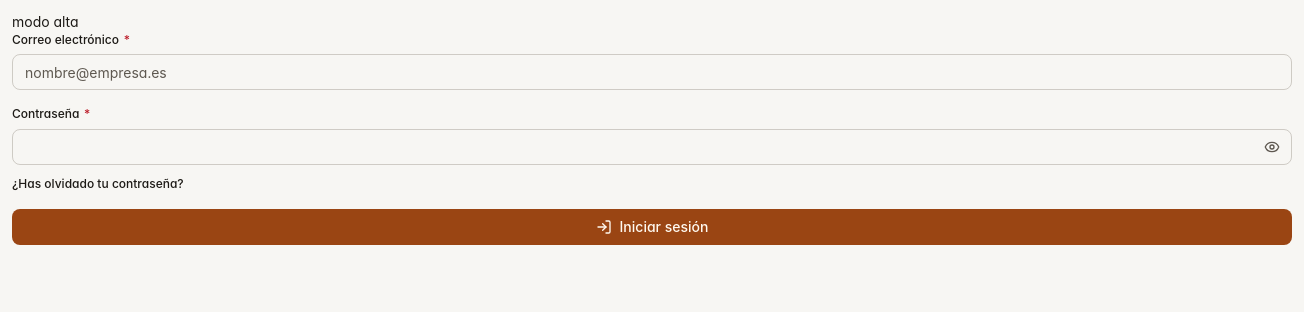
Scenario: CredentialsForm — acceso › con datos válidos manda las claves de LoginRequest y nada más
The image size is (1304, 312).
In the field with id "email": {"x": 652, "y": 72} [12, 54, 1292, 90], type "  persona@example.test "
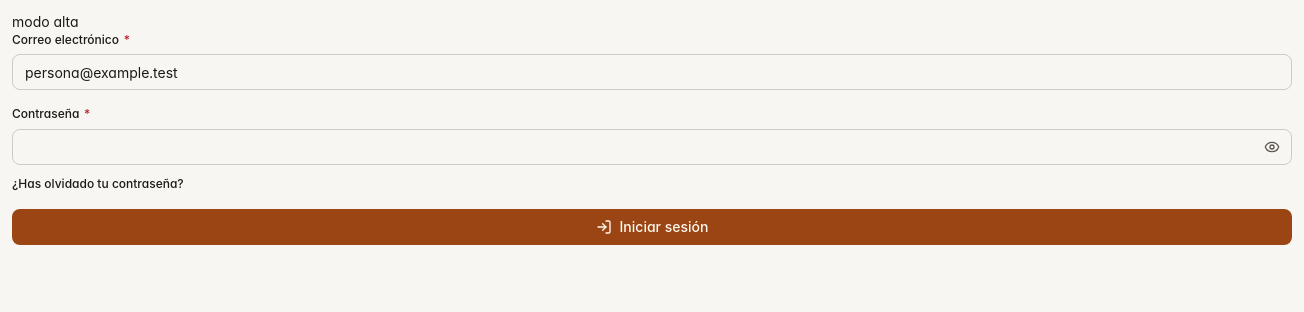
In the password field labelled "Contraseña*": {"x": 652, "y": 147} [12, 129, 1292, 165], type "secreta"
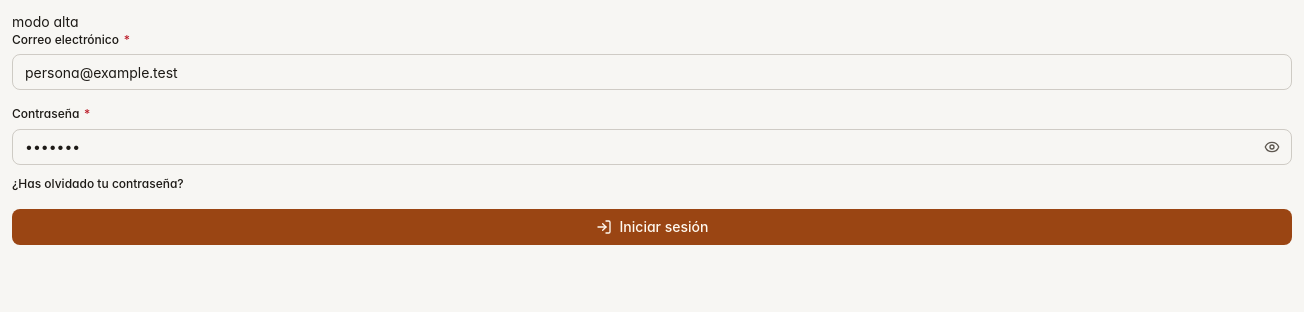
Click the button "Iniciar sesión": {"x": 652, "y": 227} [12, 209, 1292, 245]
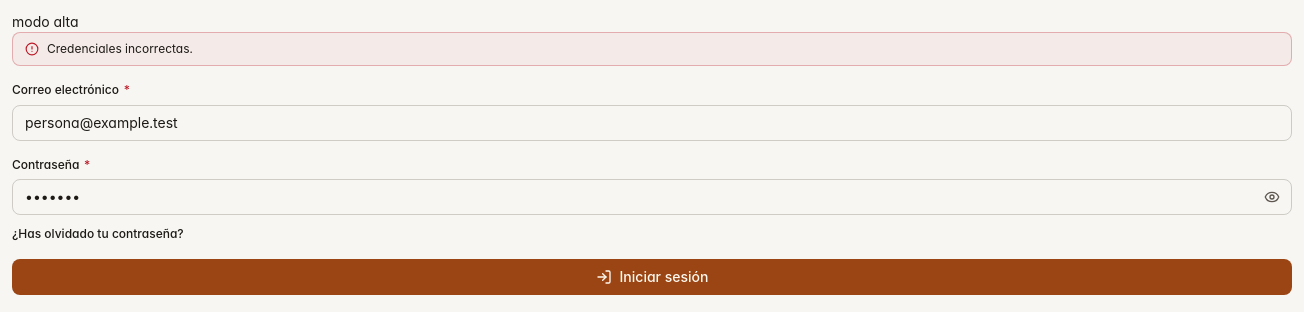
Expected: the message shows "Credenciales incorrectas", [47, 41, 193, 56]
